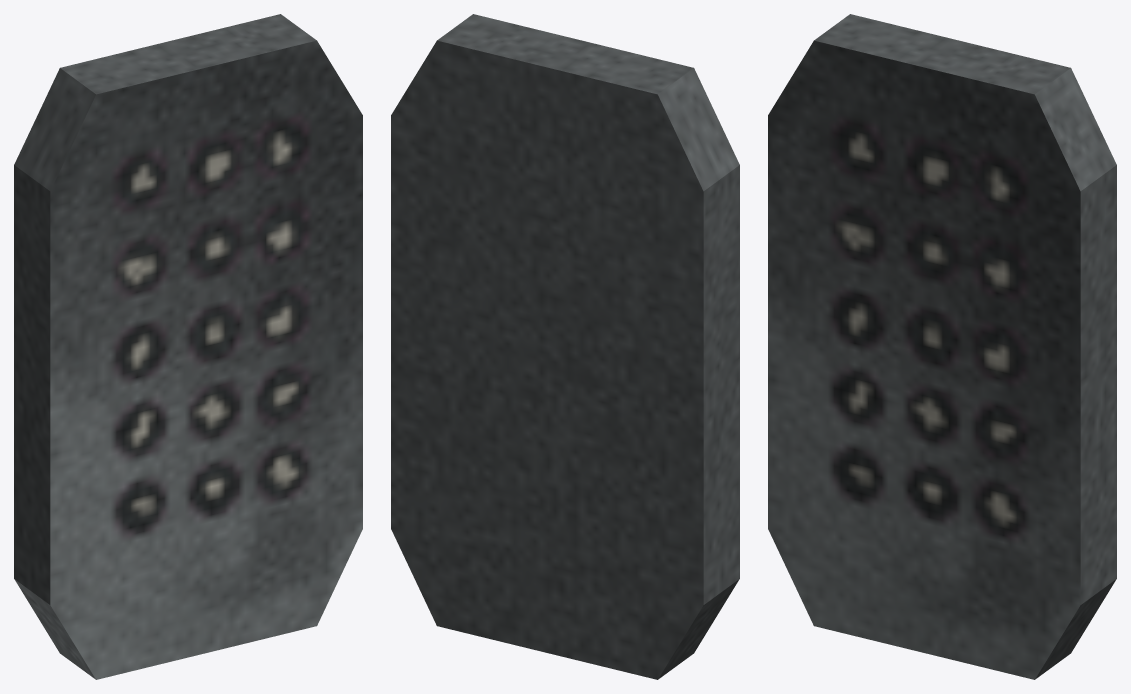
File: ElevatorControls.fbx
3 views of the same model, side by side, from view 1: azimuth 30°, elevation 25°; view 2: azimuth 150°, elevation 25°; view 3: azimuth 330°, elevation 25° (orthographic).
Visible parts, largest first — view 1: ElevatorControlPanel; view 2: ElevatorControlPanel; view 3: ElevatorControlPanel.
Part boxes in pixels (x1,y1,x2,y2): ElevatorControlPanel: (14,14,362,679); ElevatorControlPanel: (391,14,739,679); ElevatorControlPanel: (768,14,1116,679).
Bounding box in the file's own units: 49.54 × 88.71 × 9.97.
